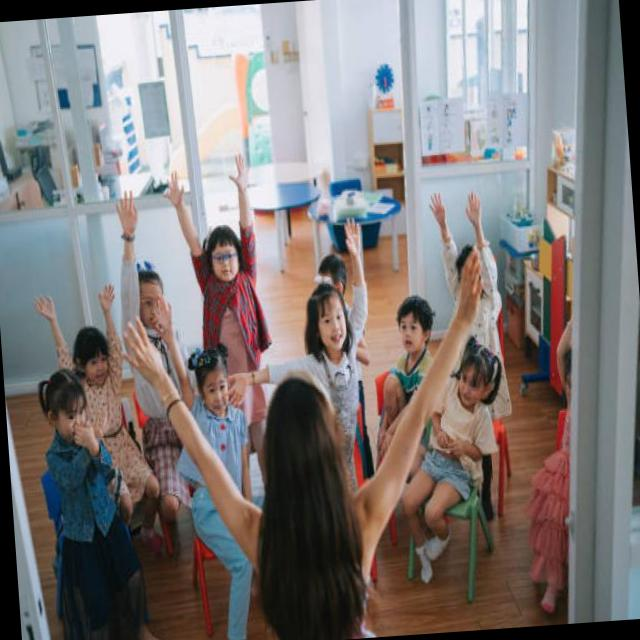no helmet: (250, 374, 365, 548)
